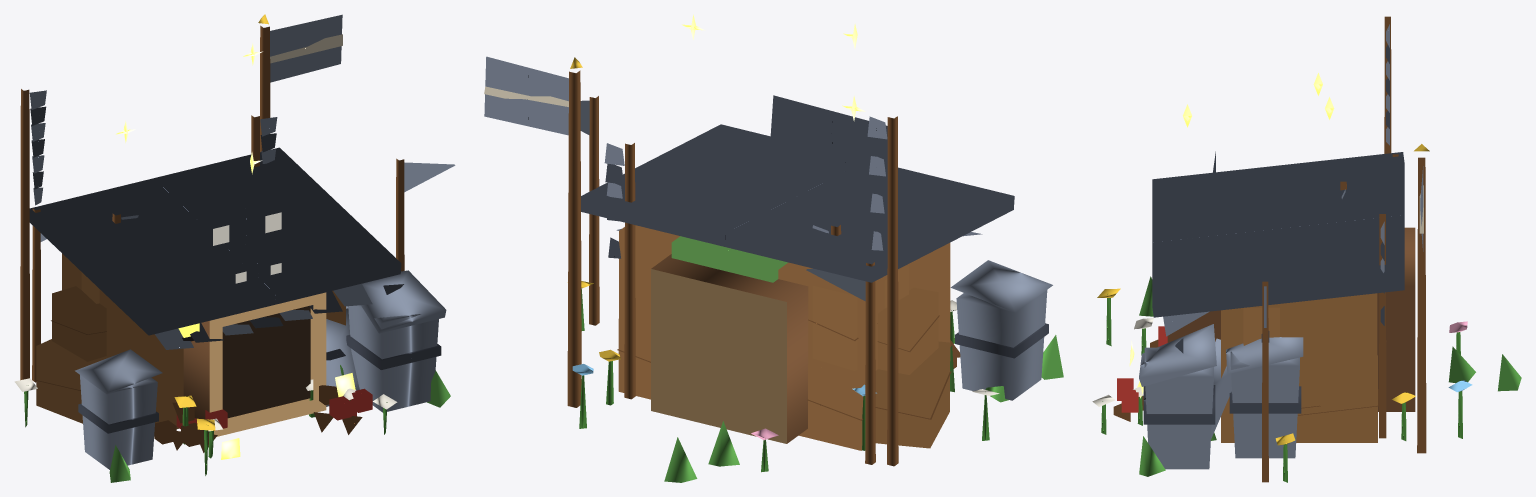
The model's file is raccoon-stash-den-blocky_lod1.glb.
3 views of the same model, side by side, from view 1: azimuth 30°, elevation 25°; view 2: azimuth 150°, elevation 25°; view 3: azimuth 270°, elevation 25° (orthographic). The views are drawn at different scales.
Parts seen in each view (by area): view 1: lv3, lv2, lv1; view 2: lv3, lv2; view 3: lv3, lv2, lv1.
Part boxes in pixels (left/top/right/bottom): lv3: left=14, top=14, right=455, bottom=482; lv2: left=32, top=115, right=355, bottom=458; lv1: left=112, top=213, right=359, bottom=446; lv3: left=484, top=14, right=1063, bottom=482; lv2: left=599, top=143, right=1008, bottom=466; lv3: left=1092, top=16, right=1521, bottom=482; lv2: left=1133, top=154, right=1475, bottom=458; lv1: left=1211, top=181, right=1346, bottom=440.
Size of the model in its own units: 1.91 by 1.4 by 1.65.
